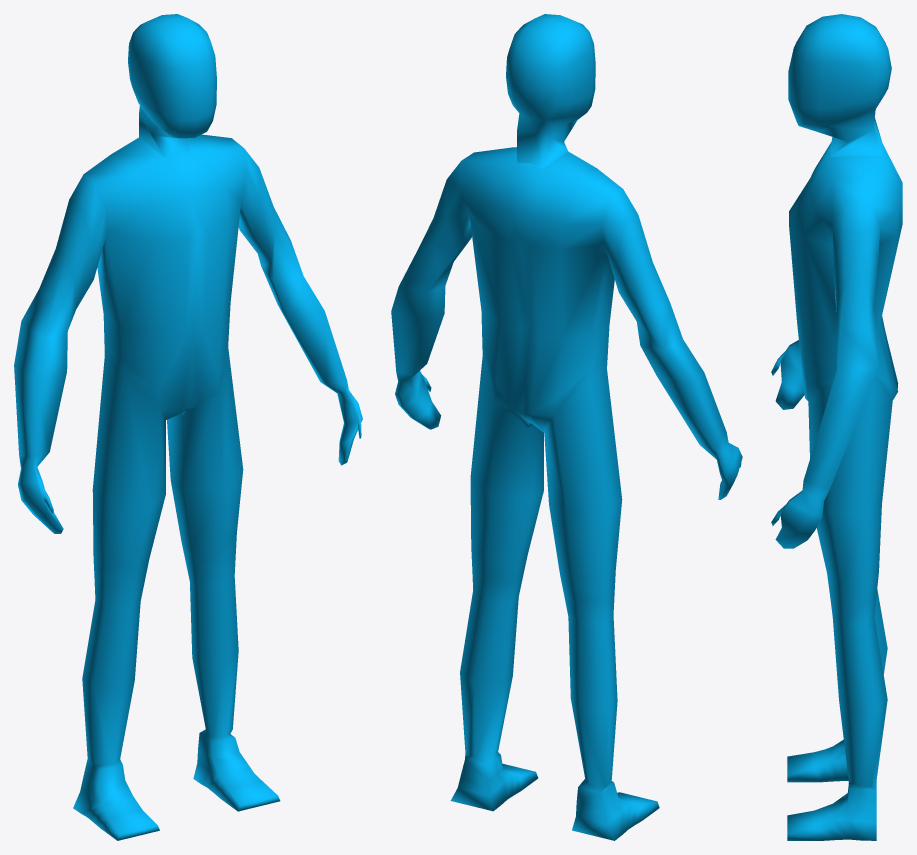
The picture shows the model from 3 angles, left to right: view 1: azimuth 30°, elevation 25°; view 2: azimuth 150°, elevation 25°; view 3: azimuth 270°, elevation 25°; orthographic projection.
Parts seen in each view (by area): view 1: Cube; view 2: Cube; view 3: Cube.
Boxes of the visible parts, x1,y1,x2,y2 form: Cube: [14, 14, 362, 840]; Cube: [391, 14, 742, 840]; Cube: [771, 14, 902, 840].
Bounding box in the file's own units: 2.11 × 4.75 × 0.7234.
